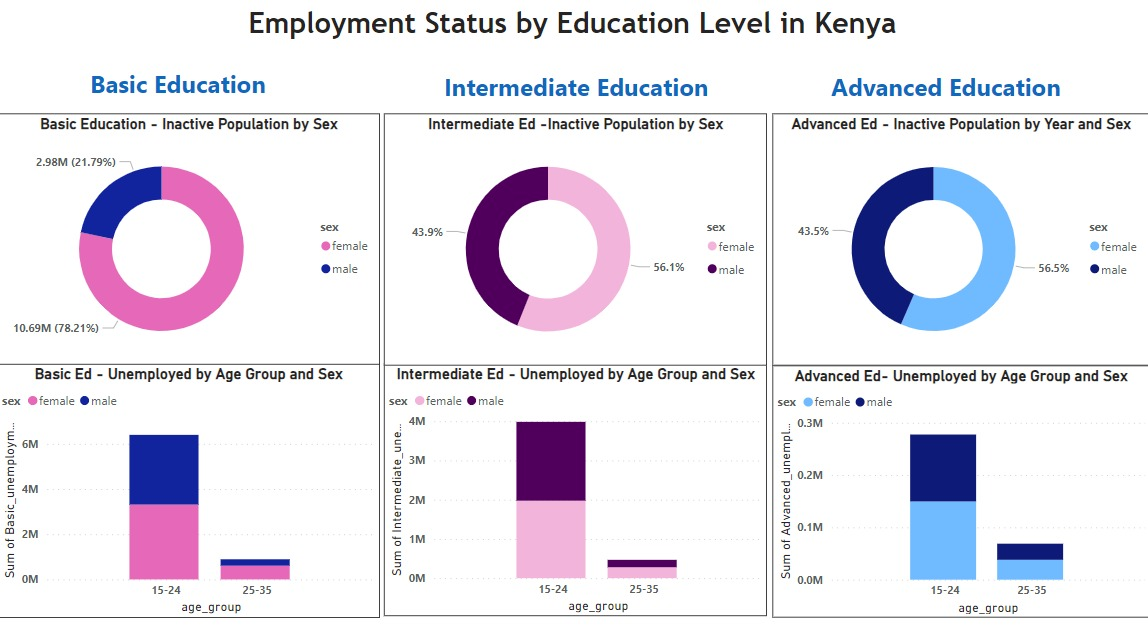

Layout of this report page (visuals, bound fields, positions):
{"tool":"powerbi","page":{"name":"Employment Status by Education Level","canvas":[1280,720],"ordinal":1},"visuals":[{"type":"donutChart","title":"Basic Education - Inactive Population by Sex","fields":{"Y":["Median(updated_education_df.Basic_inactive)"],"Series":["updated_education_df.sex"]},"box":[0,128.6,425.5,279.6],"z":0},{"type":"columnChart","title":"Intermediate Ed - Unemployed by Age Group and Sex","fields":{"Category":["updated_education_df.age_group"],"Y":["Sum(updated_education_df.Intermediate_unemployment)"],"Series":["updated_education_df.sex"]},"box":[430,406.5,425,280],"z":1000},{"type":"donutChart","title":"Intermediate Ed -Inactive Population by Sex","fields":{"Y":["Avg(updated_education_df.Intermediate_inactive)"],"Category":["updated_education_df.sex"]},"box":[430,128.1,425,280],"z":2000},{"type":"columnChart","title":"Basic Ed - Unemployed by Age Group and Sex","fields":{"Category":["updated_education_df.age_group"],"Series":["updated_education_df.sex"],"Y":["Sum(updated_education_df.Basic_unemployment)"]},"box":[0,406.5,425,281.7],"z":3000},{"type":"donutChart","title":"Advanced Ed - Inactive Population by Year and Sex","fields":{"Y":["Sum(updated_education_df.Advanced_inactive)"],"Series":["updated_education_df.sex"]},"box":[861.7,128.1,418.3,280],"z":4000},{"type":"columnChart","title":"Advanced Ed- Unemployed by Age Group and Sex","fields":{"Category":["updated_education_df.age_group"],"Y":["Sum(updated_education_df.Advanced_unemployment)"],"Series":["updated_education_df.sex"]},"box":[861.7,408.1,418.3,280],"z":5000},{"type":"textbox","box":[263.3,3.3,751.7,48.3],"z":6000},{"type":"textbox","box":[98.3,71.7,300,51.7],"z":7000},{"type":"textbox","box":[491.7,75,363.3,45],"z":8000},{"type":"textbox","box":[921.7,75,300,56.7],"z":9000}]}

Visuals, with their boxes in screenshot pixels (x1, y1, x2, y2), scaled from the page's 1280x720 canvas onto the 1148x628 screenshot:
"Basic Education - Inactive Population by Sex" donutChart: [x1=0, y1=112, x2=382, y2=356]
"Intermediate Ed - Unemployed by Age Group and Sex" columnChart: [x1=386, y1=355, x2=767, y2=599]
"Intermediate Ed -Inactive Population by Sex" donutChart: [x1=386, y1=112, x2=767, y2=356]
"Basic Ed - Unemployed by Age Group and Sex" columnChart: [x1=0, y1=355, x2=381, y2=600]
"Advanced Ed - Inactive Population by Year and Sex" donutChart: [x1=773, y1=112, x2=1147, y2=356]
"Advanced Ed- Unemployed by Age Group and Sex" columnChart: [x1=773, y1=356, x2=1147, y2=600]
textbox: [x1=236, y1=3, x2=910, y2=45]
textbox: [x1=88, y1=63, x2=357, y2=108]
textbox: [x1=441, y1=65, x2=767, y2=105]
textbox: [x1=827, y1=65, x2=1096, y2=115]
